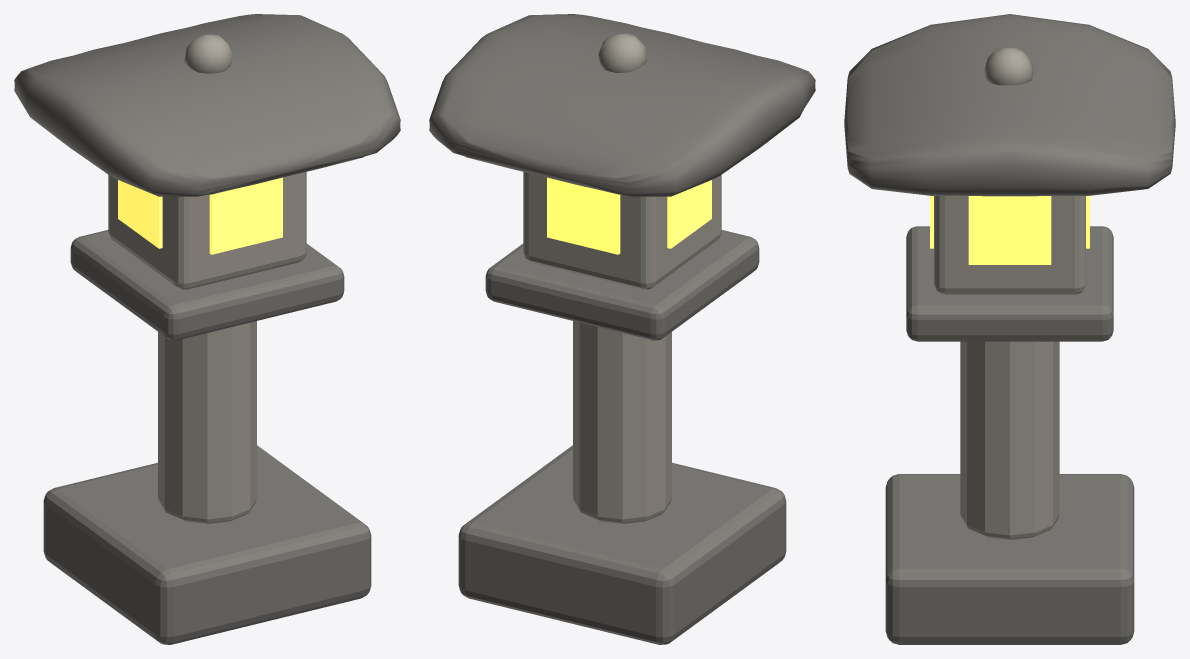
The model's file is lantern.glb.
3 views of the same model, side by side, from view 1: azimuth 30°, elevation 25°; view 2: azimuth 150°, elevation 25°; view 3: azimuth 270°, elevation 25° (orthographic).
Parts seen in each view (by area): view 1: Stone_roof, Stone_base, Stone_post, Stone_shelf, Stone_box, Glow_window.001, Glow_window.002, Stone_knob; view 2: Stone_roof, Stone_base, Stone_post, Stone_shelf, Stone_box, Glow_window, Glow_window.002, Stone_knob; view 3: Stone_roof, Stone_base, Stone_post, Stone_shelf, Stone_box, Glow_window.003, Stone_knob.
Boxes of the visible parts, box(x1,y1,x2,y2) form: Stone_roof: box(14, 14, 400, 196); Stone_base: box(43, 445, 371, 644); Stone_post: box(158, 321, 256, 523); Stone_shelf: box(70, 230, 344, 340); Stone_box: box(108, 172, 306, 289); Glow_window.001: box(209, 177, 282, 254); Glow_window.002: box(118, 180, 162, 248); Stone_knob: box(184, 34, 232, 73); Stone_roof: box(429, 14, 815, 196); Stone_base: box(458, 445, 786, 644); Stone_post: box(573, 321, 671, 523); Stone_shelf: box(485, 230, 759, 340); Stone_box: box(523, 172, 721, 289); Glow_window: box(547, 177, 620, 254); Glow_window.002: box(667, 180, 711, 248); Stone_knob: box(598, 33, 646, 72); Stone_roof: box(844, 14, 1175, 196); Stone_base: box(885, 474, 1134, 644); Stone_post: box(960, 341, 1059, 539); Stone_shelf: box(906, 226, 1113, 341); Stone_box: box(934, 196, 1085, 294); Glow_window.003: box(968, 196, 1051, 264); Stone_knob: box(984, 47, 1033, 85).
Bounding box in the file's own units: 1.22 × 2.19 × 1.2.
